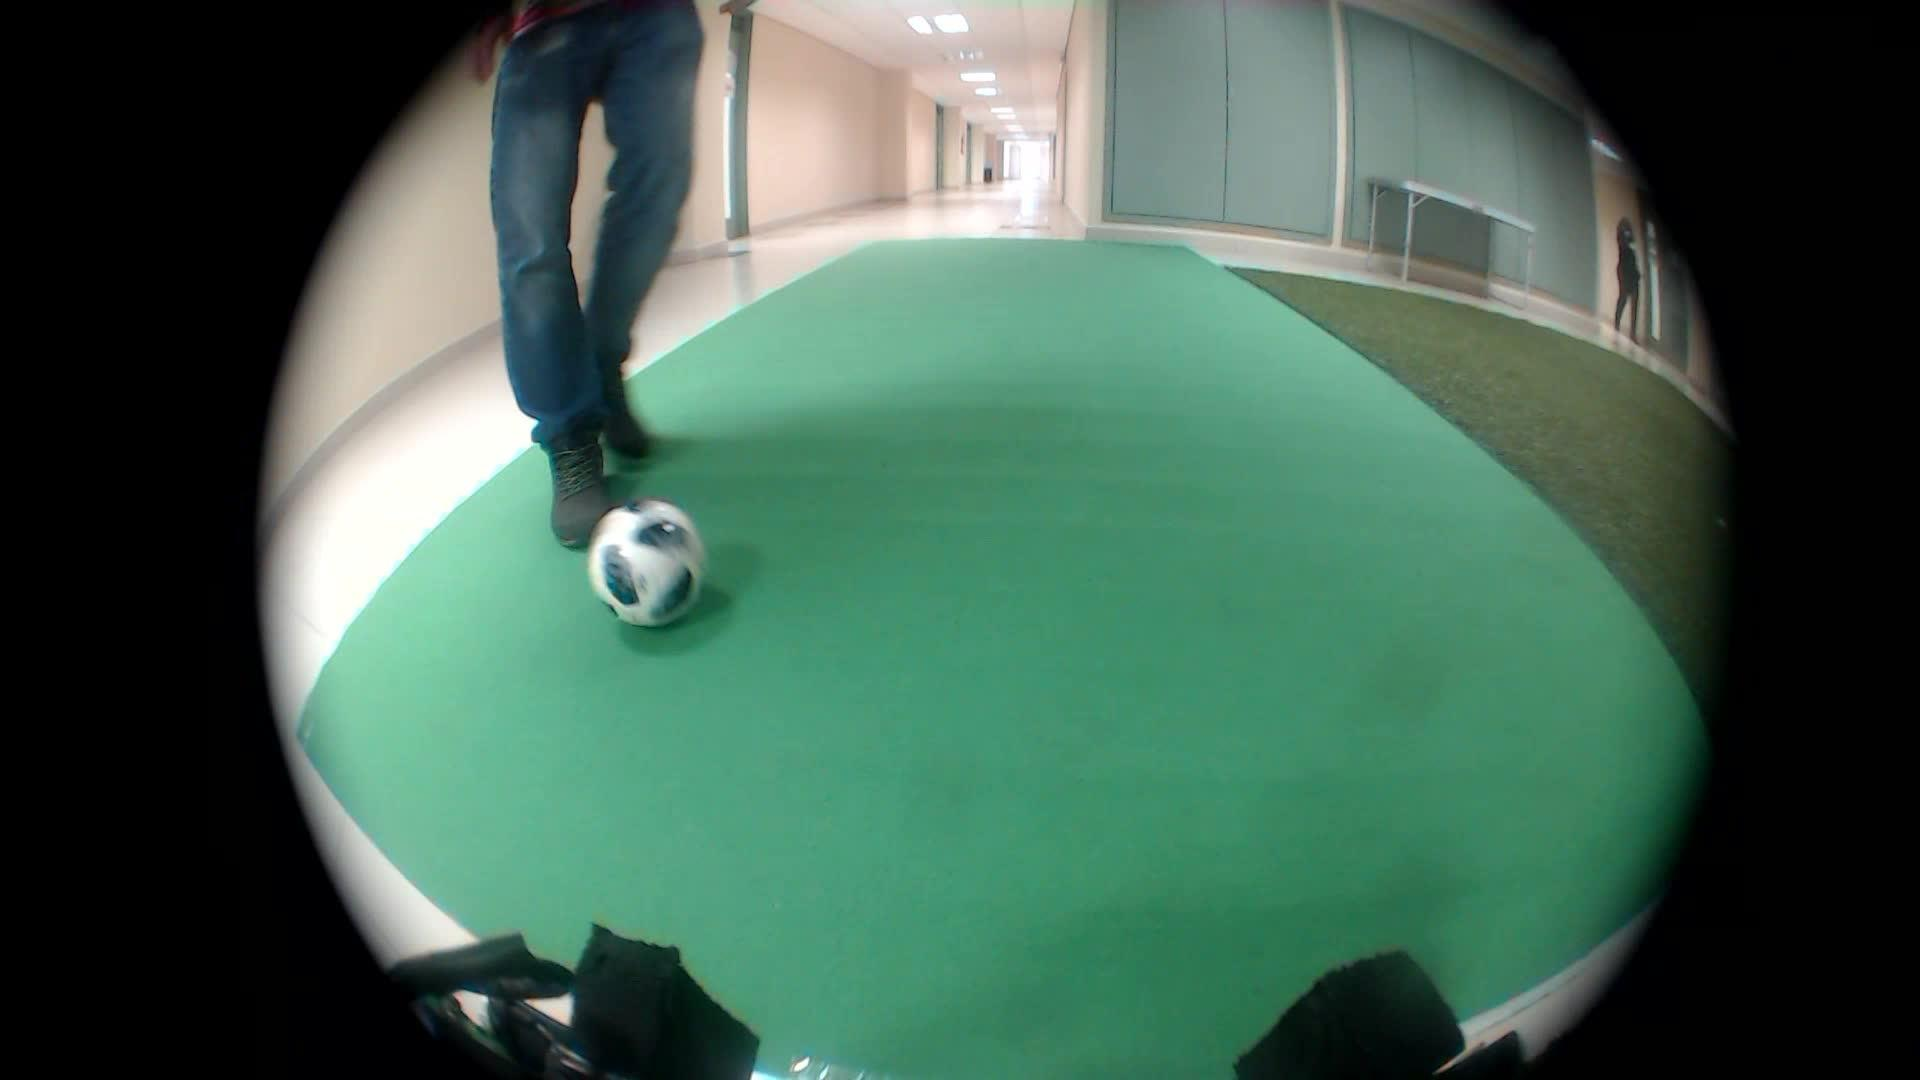ball: (568, 491, 719, 633)
